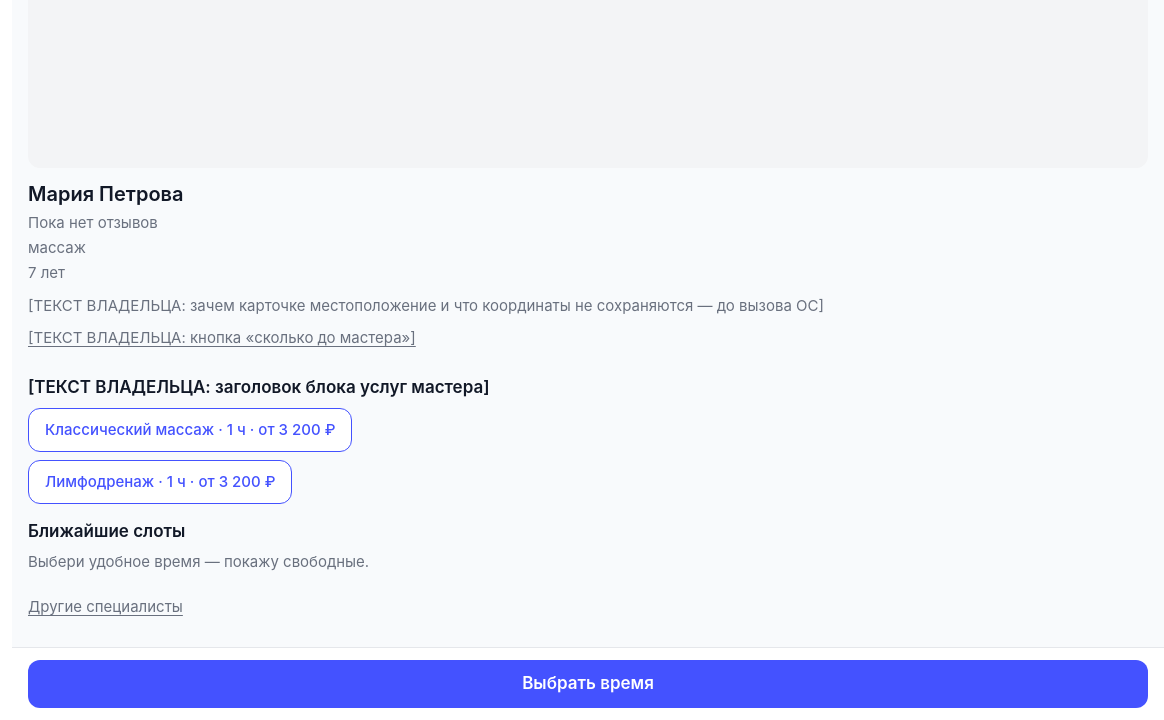
запись с карточки › услуга из списка → экран времени этого мастера по этой услуге, с именами
(page scrolled)
Click the button "Лимфодренаж · 1 ч · от 3 200 ₽": (160, 482) [28, 460, 292, 504]
(page scrolled)
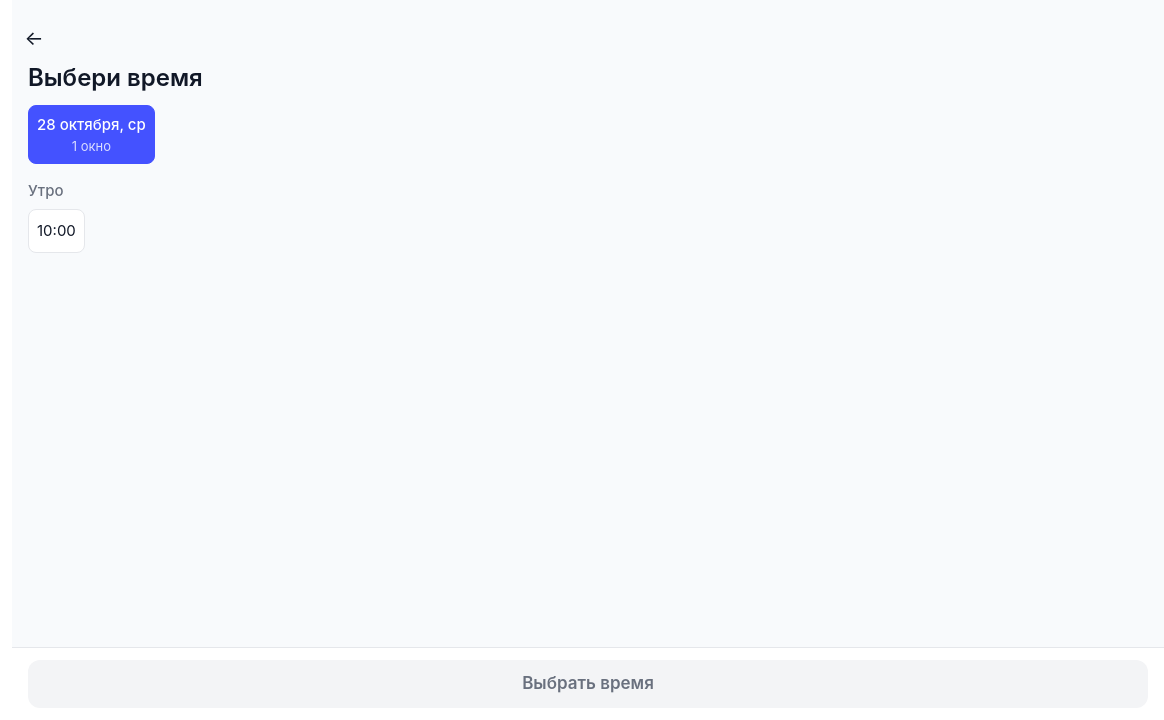
Check: the button "10:00" is shown, box [28, 209, 85, 253]
